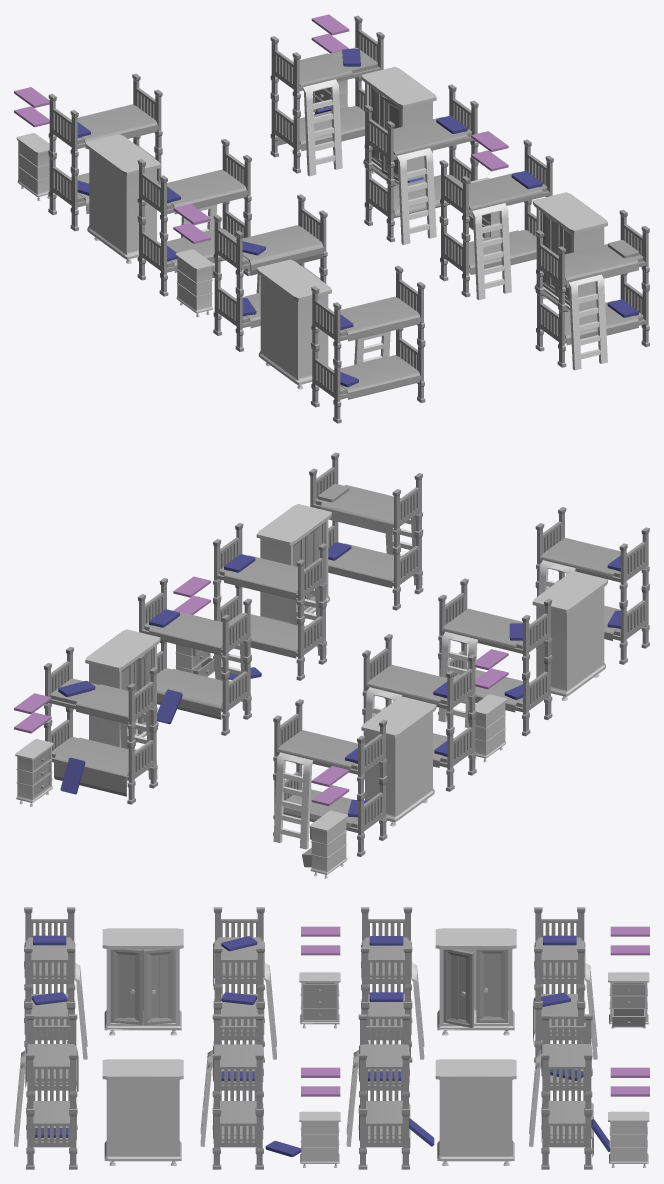
The model's file is servants_quarters_scene.fbx.
3 renders of one model, top to bottom at view 1: azimuth 30°, elevation 25°; view 2: azimuth 150°, elevation 25°; view 3: azimuth 270°, elevation 25°, orthographic. The views are drawn at different scales.
Parts seen in each view (by area): view 1: pasted__bedframe (×16), pasted__blanket (×14), closet (×4), drawer_body4 (×2), ladder3 (×2), ladder1, ladder2, ladder, closet_door_R, closet_door_L; view 2: pasted__bedframe (×16), pasted__blanket (×14), closet (×4), drawer_body4 (×3), ladder, ladder2 (×2), pasted__pillow; view 3: pasted__bedframe (×16), closet (×4), pasted__blanket (×16), drawer_body4 (×4), closet_door_R (×2), closet_door_L (×2), ladder3 (×2), ladder2 (×2), ladder1 (×2), ladder (×2), drawer_handle2 (×2), drawer_handle (×2) (+5 smaller).
Part boxes in pixels (box(x1,y1,x2,y2)): pasted__bedframe (×16): box(48, 15, 649, 423); pasted__blanket (×14): box(71, 53, 638, 399); closet (×4): box(85, 67, 607, 389); drawer_body4 (×2): box(16, 133, 213, 317); ladder3 (×2): box(303, 79, 390, 364); ladder1: box(472, 203, 511, 299); ladder2: box(397, 148, 436, 244); ladder: box(569, 274, 607, 370); closet_door_R: box(381, 96, 400, 180); closet_door_L: box(540, 211, 556, 295); pasted__bedframe (×16): box(43, 452, 649, 856); pasted__blanket (×14): box(54, 485, 620, 828); closet (×4): box(85, 504, 607, 826); drawer_body4 (×3): box(15, 694, 506, 878); ladder: box(273, 752, 312, 849); ladder2 (×2): box(214, 631, 477, 727); pasted__pillow: box(60, 757, 85, 794); pasted__bedframe (×16): box(24, 907, 592, 1169); closet (×4): box(102, 928, 516, 1165); pasted__blanket (×16): box(24, 940, 593, 1157); drawer_body4 (×4): box(299, 972, 649, 1167); closet_door_R (×2): box(143, 949, 508, 1025); closet_door_L (×2): box(110, 949, 473, 1027); ladder3 (×2): box(74, 963, 541, 1146); ladder2 (×2): box(264, 963, 358, 1146); ladder1 (×2): box(200, 962, 424, 1146); ladder (×2): box(14, 963, 597, 1146); drawer_handle2 (×2): box(303, 1009, 645, 1027); drawer_handle (×2): box(303, 983, 645, 996).
Bounding box in the file's own units: 9.77 × 3.49 × 17.6.
